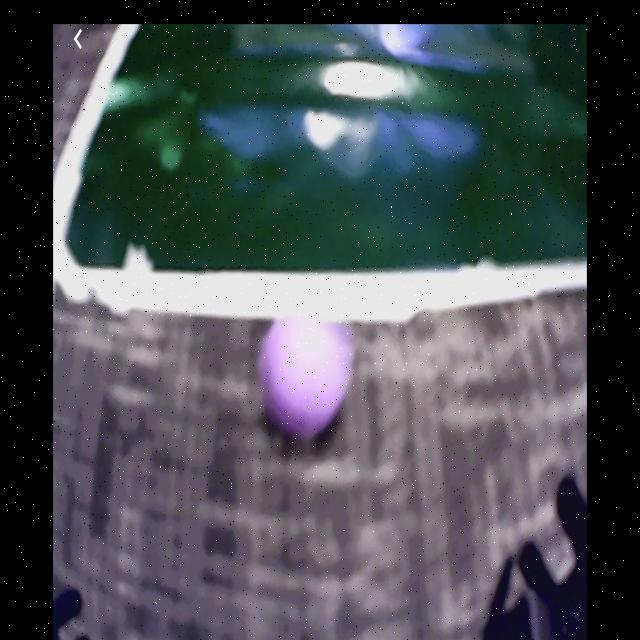ball: (260, 315, 349, 443)
